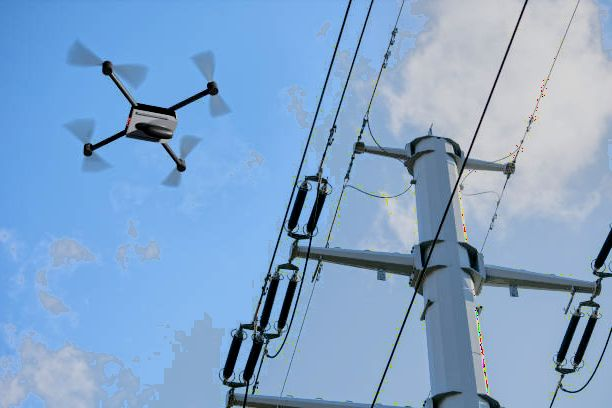Drone: (59, 31, 236, 191)
